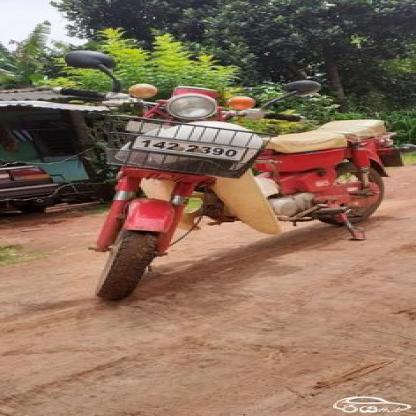bike front: (54, 44, 410, 304)
number plate: (129, 136, 260, 162)
